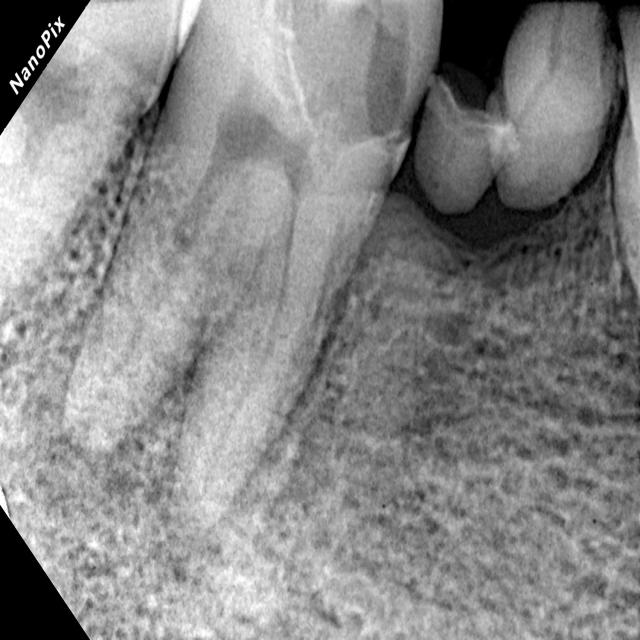karies: (272, 12, 431, 158)
